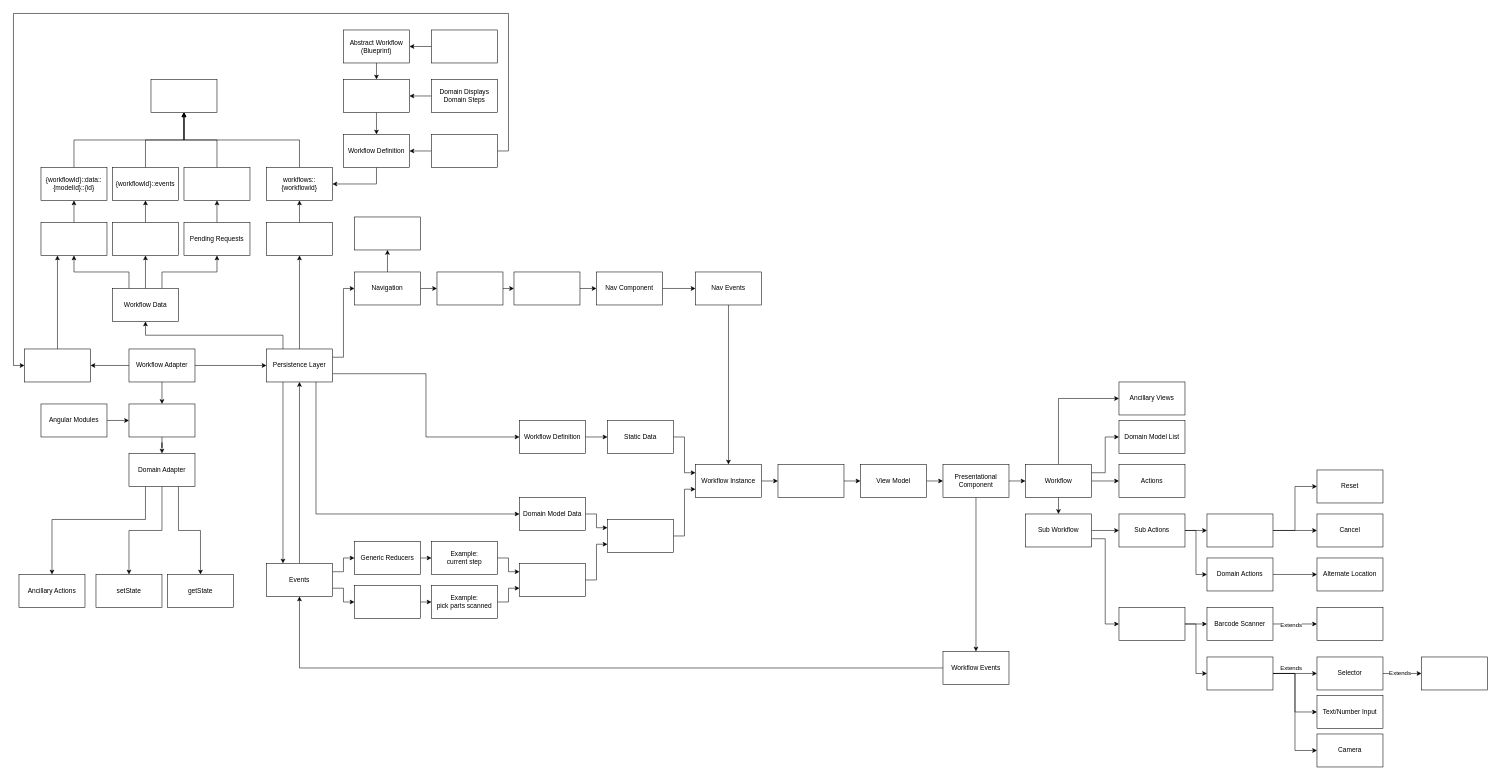
This 1497x777 diagram has some shape labels left out. Each missing label, with the box of its shape:
Adapter Registry: (128, 403, 195, 437)
API: (24, 348, 90, 382)
Confirmation: (1206, 656, 1273, 690)
Country of Origin: (1421, 656, 1487, 690)
Domain Model: (40, 222, 107, 255)
Domain Model Steps: (1118, 607, 1185, 640)
Domain Reducers: (354, 585, 420, 618)
Domain-Specific Configuration: (343, 79, 409, 112)
Dynamic Route Builder: (354, 216, 420, 250)
Event State: (112, 222, 178, 255)
Generic Actions: (1206, 513, 1273, 547)
Generic flow of list of items completed through item steps: (431, 29, 497, 63)
Load on App startup: (431, 134, 497, 167)
Nav View Composer: (436, 271, 503, 305)
Nav View Model: (513, 271, 580, 305)
PouchDB: (150, 79, 217, 112)
Runtime Data: (607, 519, 673, 552)
Scan Counter: (1316, 607, 1383, 640)
State Data: (519, 563, 585, 596)
View Composer: (777, 464, 844, 497)
Workflow Definitions: (266, 222, 332, 255)
{workflowId}:: requests::{id}: (183, 167, 250, 200)
